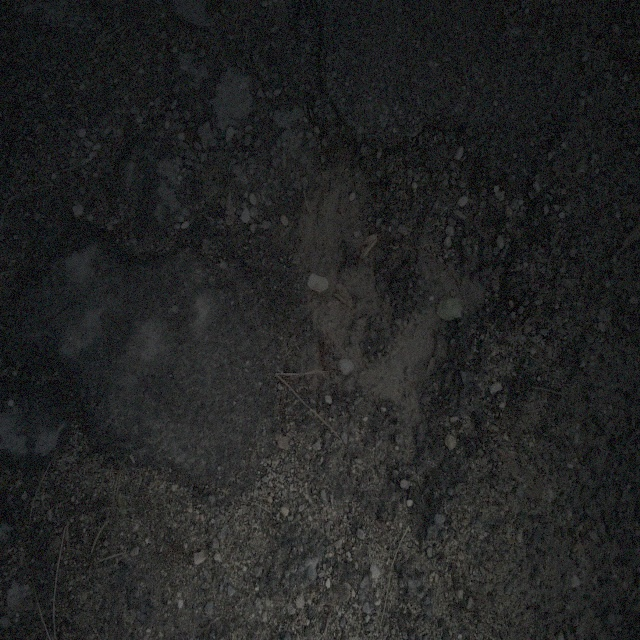pothole: (288, 112, 522, 434)
